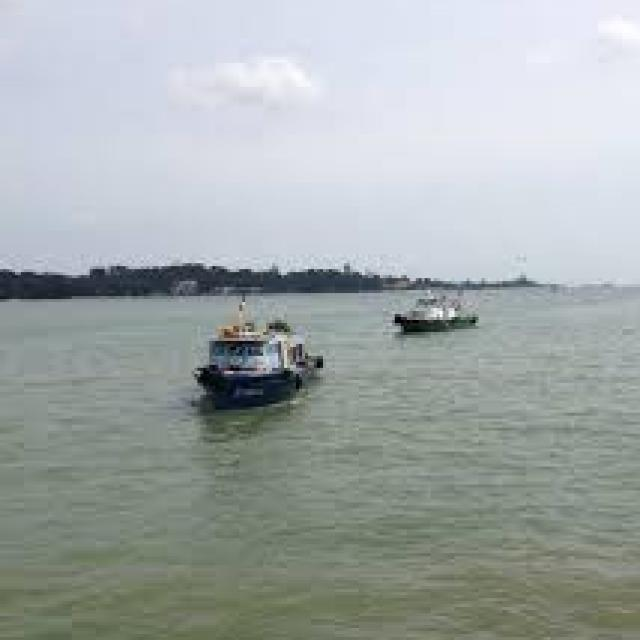houseboat: (197, 302, 327, 401), (395, 283, 476, 333)
